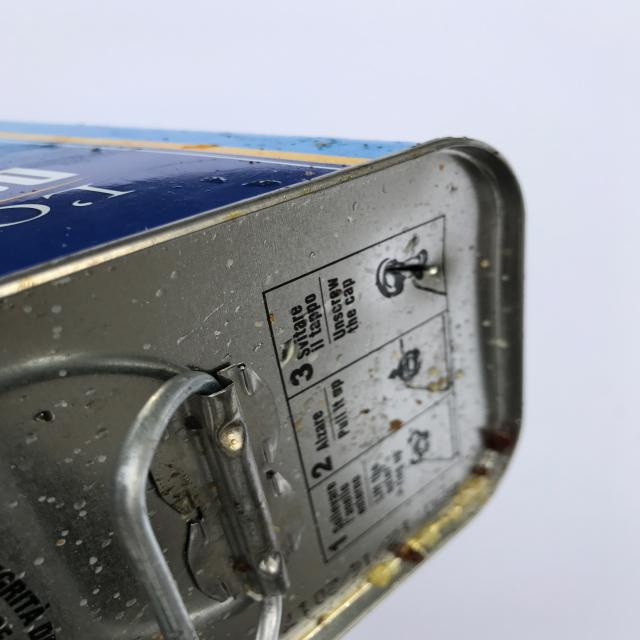metal: (0, 131, 527, 640)
